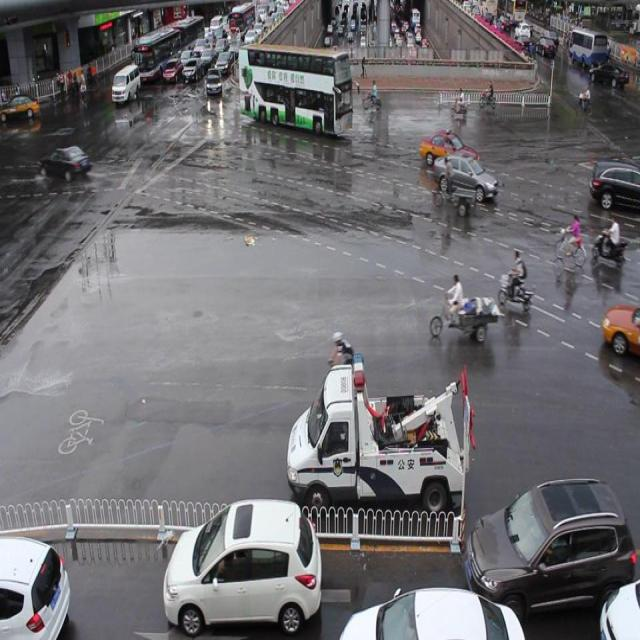bus: (287, 352, 473, 518)
car: (462, 472, 640, 617), (162, 495, 322, 633), (340, 584, 523, 640), (1, 530, 71, 640), (432, 150, 497, 202), (588, 158, 640, 211), (600, 576, 640, 640), (419, 130, 478, 173), (600, 302, 640, 359)
van: (237, 44, 353, 136)
